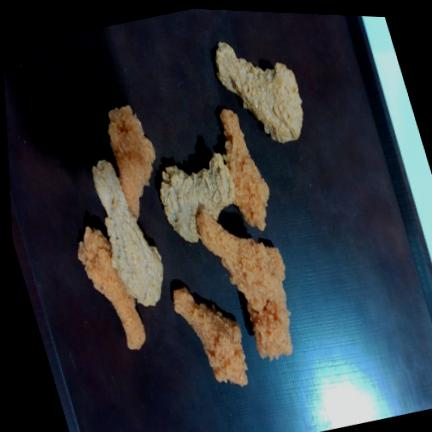chicken: (93, 159, 163, 305), (215, 41, 303, 142), (77, 226, 145, 348), (197, 210, 284, 305), (173, 287, 247, 386), (160, 152, 234, 242), (220, 109, 269, 229), (108, 105, 155, 219), (247, 296, 292, 360)
